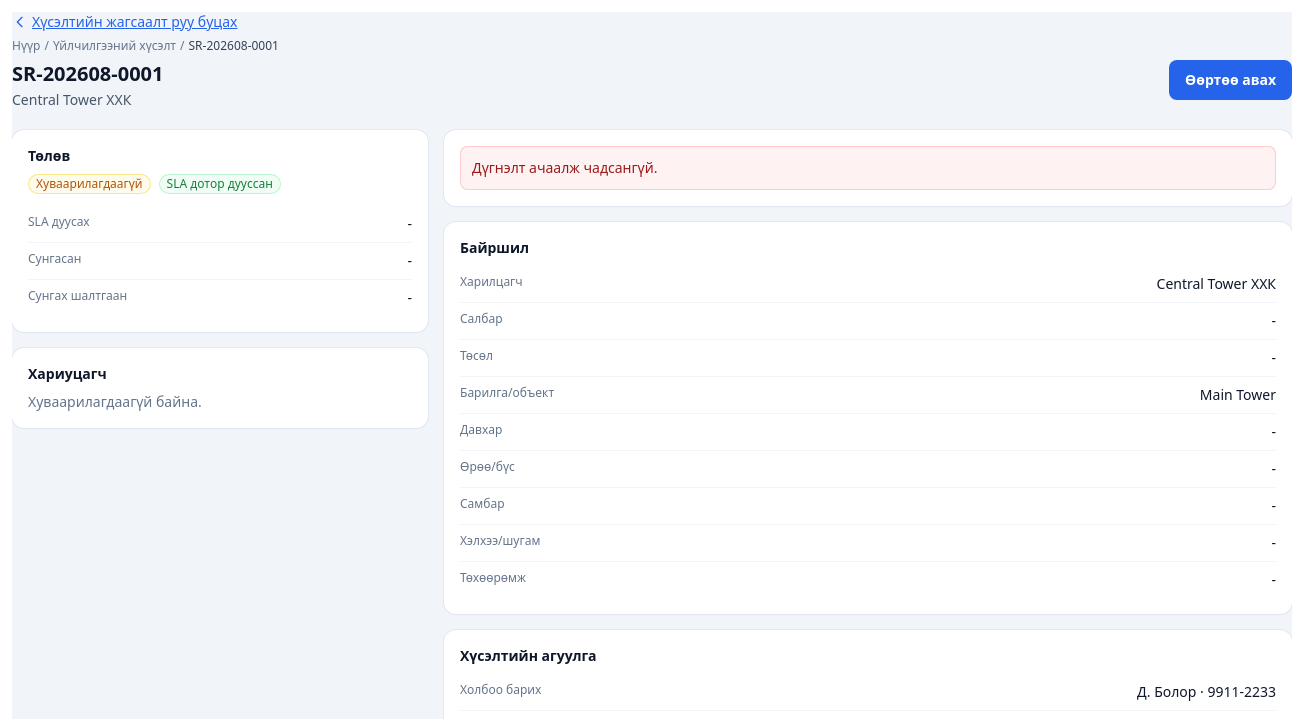
Test case: ServiceRequestDetailPage claim action › takes the request and shows the server’s updated record
Click the button "Өөртөө авах": (1231, 80) [1169,60,1292,100]
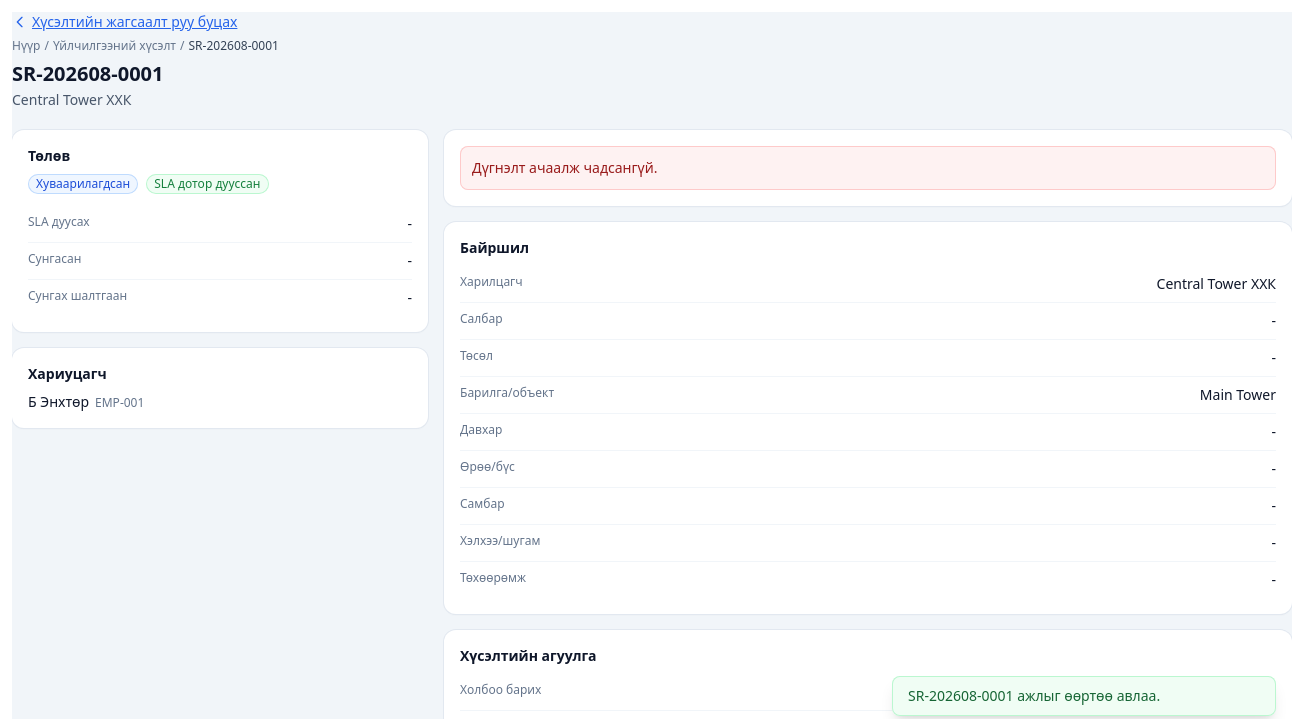
expect the text "SR-202608-0001 ажлыг өөртөө авлаа." is shown: met, box [892,676,1276,716]
expect the button "Өөртөө авах" is gone: met
